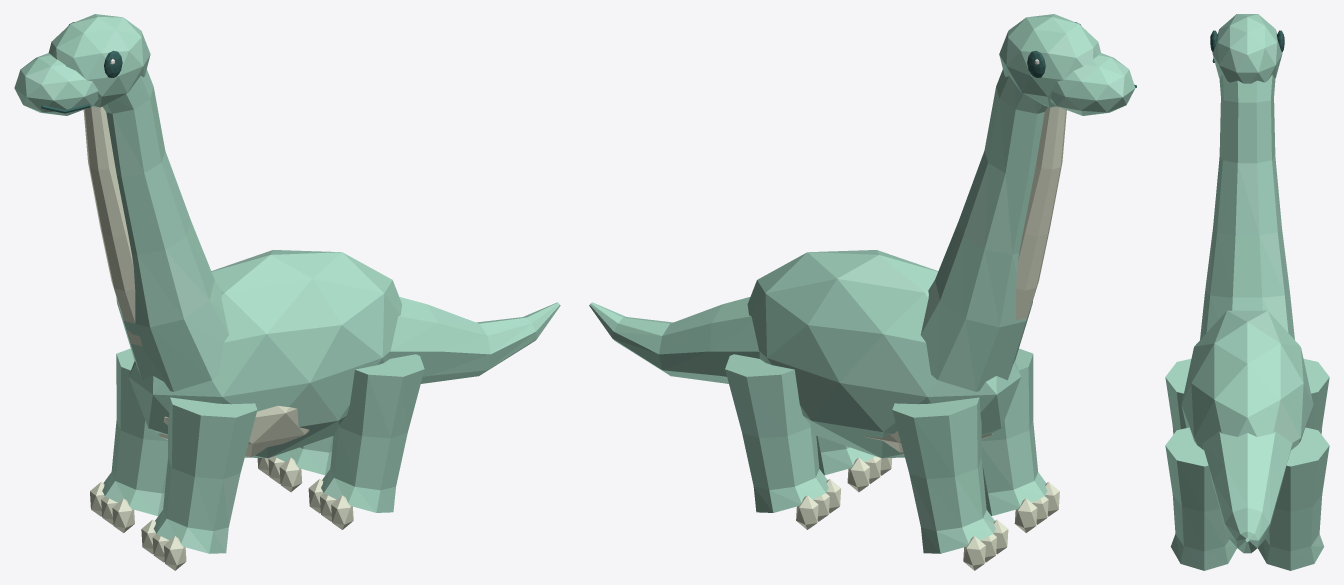
File: brachiosaurus.glb
3 views of the same model, side by side, from view 1: azimuth 30°, elevation 25°; view 2: azimuth 150°, elevation 25°; view 3: azimuth 270°, elevation 25° (orthographic). The views are drawn at different scales.
Parts seen in each view (by area): view 1: Body, Long curved neck, Rounded leg, Rounded leg.002, Tapered tail, Rounded leg.001, Head, Cream throat, Soft snout, Ivory belly, Rounded leg.003; view 2: Body, Long curved neck, Rounded leg.001, Rounded leg.003, Tapered tail, Rounded leg, Head, Cream throat, Soft snout, Rounded leg.002; view 3: Long curved neck, Body, Tapered tail, Rounded leg.003, Rounded leg.002, Head, Rounded leg, Rounded leg.001.
Boxes of the visible parts, x1,y1,x2,y2 form: Body: [128, 250, 402, 458]; Long curved neck: [103, 69, 228, 391]; Rounded leg: [153, 397, 257, 553]; Rounded leg.002: [321, 354, 424, 512]; Tapered tail: [390, 297, 560, 383]; Rounded leg.001: [102, 348, 167, 515]; Head: [48, 14, 150, 107]; Cream throat: [83, 106, 142, 346]; Soft snout: [14, 53, 98, 115]; Ivory belly: [158, 405, 309, 456]; Rounded leg.003: [274, 436, 333, 475]; Body: [747, 250, 1020, 458]; Long curved neck: [920, 69, 1047, 391]; Rounded leg.001: [892, 397, 995, 553]; Rounded leg.003: [725, 354, 828, 512]; Tapered tail: [589, 297, 759, 383]; Rounded leg: [981, 348, 1047, 515]; Head: [999, 14, 1100, 107]; Cream throat: [1016, 106, 1066, 340]; Soft snout: [1050, 53, 1135, 115]; Rounded leg.002: [816, 436, 875, 475]; Long curved neck: [1200, 74, 1294, 339]; Body: [1181, 310, 1313, 449]; Tapered tail: [1202, 431, 1292, 553]; Rounded leg.003: [1258, 427, 1329, 570]; Rounded leg.002: [1165, 427, 1236, 570]; Head: [1212, 14, 1282, 83]; Rounded leg: [1165, 359, 1191, 434]; Rounded leg.001: [1303, 359, 1329, 434].
Bounding box in the file's own units: 3.87 × 3.68 × 1.22.
